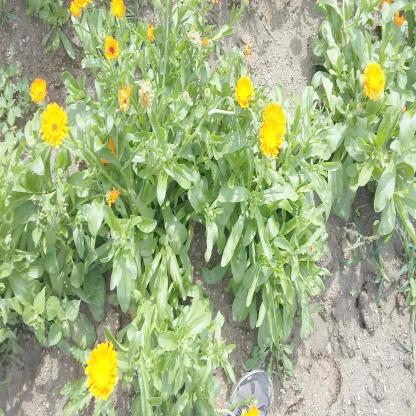marigold: (87, 340, 116, 393), (41, 104, 66, 144), (364, 63, 385, 99), (264, 100, 286, 134), (235, 74, 254, 110), (259, 122, 279, 156), (29, 78, 46, 102), (105, 34, 119, 57), (112, 0, 126, 17)
